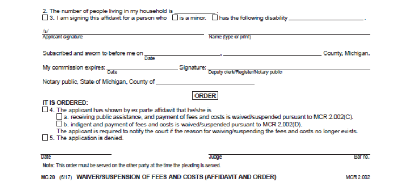checkbox: (56, 119, 63, 128), (42, 14, 49, 22), (172, 14, 179, 22), (211, 14, 218, 22), (42, 105, 49, 113), (42, 133, 49, 141), (56, 112, 63, 120)
textline: (207, 25, 371, 36), (41, 25, 204, 36), (206, 61, 372, 71), (207, 147, 371, 156), (223, 48, 323, 57), (155, 77, 255, 85), (288, 12, 364, 22), (144, 48, 222, 57), (39, 148, 113, 156), (106, 63, 179, 71), (173, 6, 216, 15)
